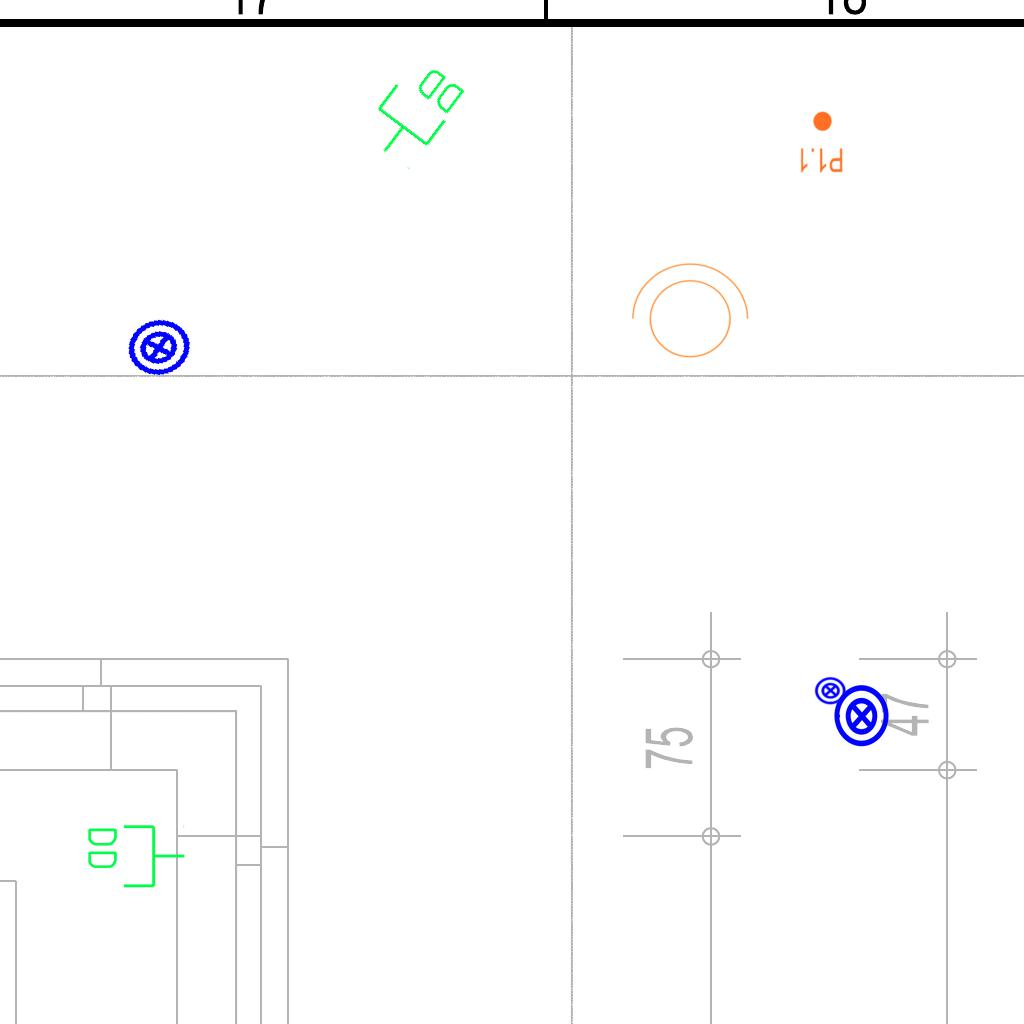Datenanschluss_zweifach: (355, 50, 474, 175), (84, 821, 187, 890)
Downlight_LED_Einbauleuchten_Flur: (798, 110, 844, 174)
Scheinwerfer_fuer_Alarmbeleuchtung: (621, 258, 753, 370)
Taster_beleuchtet: (119, 308, 199, 388), (829, 683, 895, 749), (814, 674, 847, 707)
